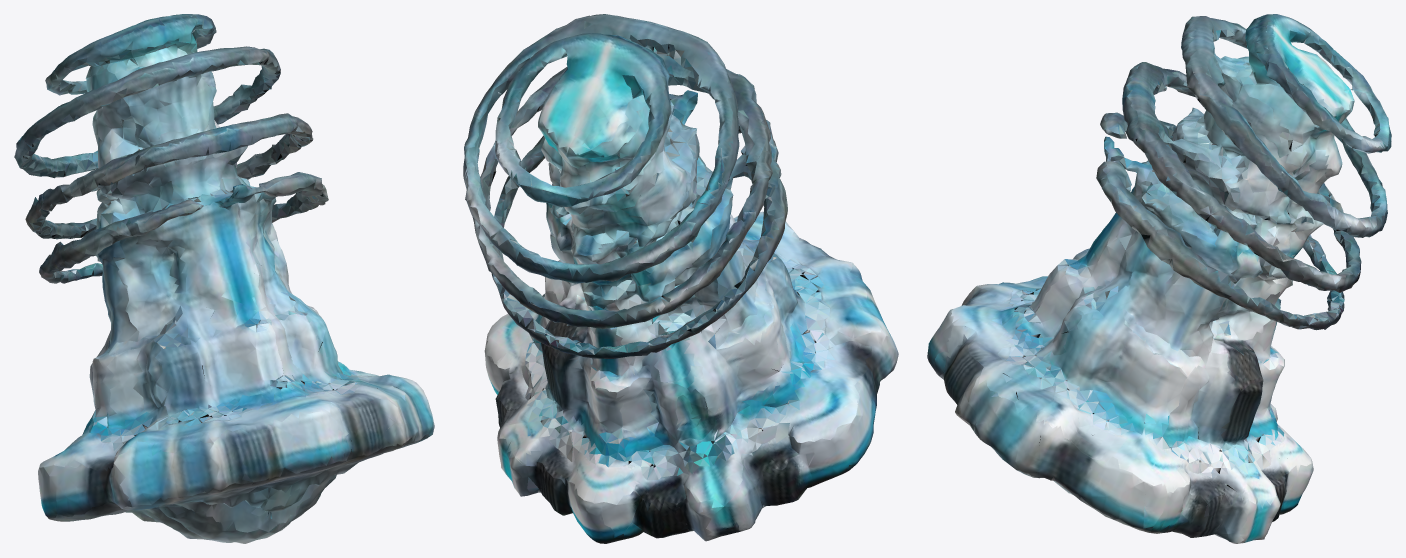
Rendered from nexus_purifier.glb.
3 renders of one model, left to right at view 1: azimuth 30°, elevation 25°; view 2: azimuth 150°, elevation 25°; view 3: azimuth 270°, elevation 25°, orthographic. The views are drawn at different scales.
Visible parts, largest first — view 1: geometry_0; view 2: geometry_0; view 3: geometry_0.
Boxes of the visible parts, x1=… form: geometry_0: x1=14, y1=14, x2=434, y2=543; geometry_0: x1=463, y1=14, x2=898, y2=543; geometry_0: x1=927, y1=14, x2=1391, y2=543.
Size of the model in its own units: 0.691 by 0.893 by 0.7763.
Materials: 1 (1 with a texture image).
